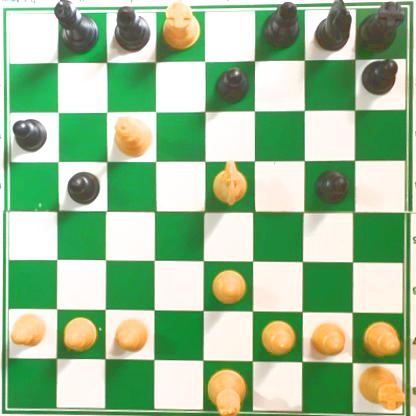black-bishop: (113, 3, 152, 54), (262, 1, 301, 52)
black-king: (51, 1, 98, 57)
black-knight: (314, 1, 354, 54)
black-pawn: (359, 56, 401, 96), (213, 65, 248, 106), (10, 115, 48, 152), (313, 167, 349, 204), (66, 167, 101, 204)
black-rook: (355, 1, 404, 54)
white-king: (206, 368, 251, 416)
white-knight: (212, 158, 249, 208)
white-pawn: (259, 317, 298, 356), (308, 320, 347, 359), (8, 310, 49, 345), (62, 313, 97, 354), (360, 318, 400, 353), (210, 270, 249, 305), (114, 315, 149, 353)
white-queen: (112, 113, 152, 156)
white-rook: (356, 362, 404, 411), (161, 1, 196, 53)
